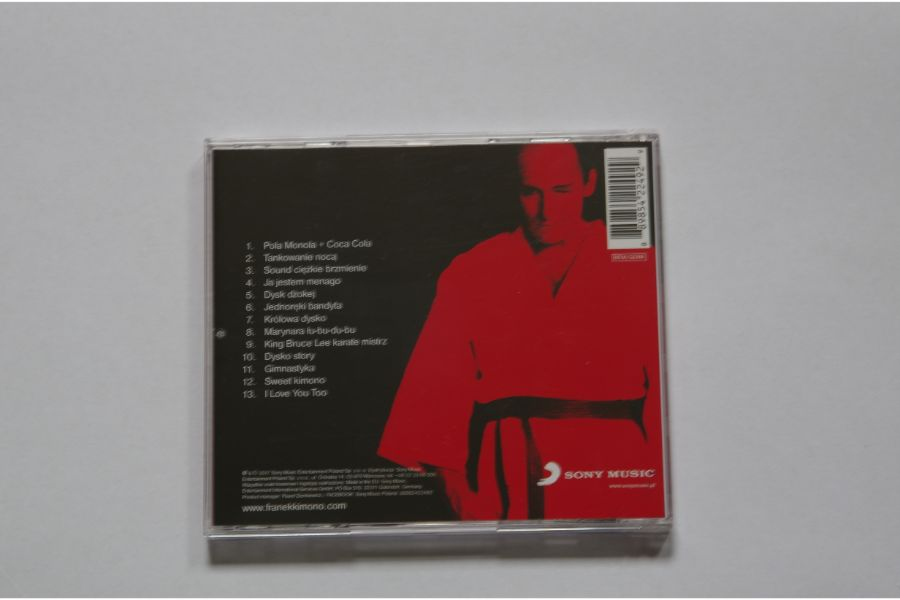album: (198, 129, 676, 543)
